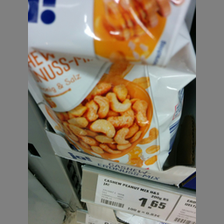nuts: (28, 48, 185, 174)
